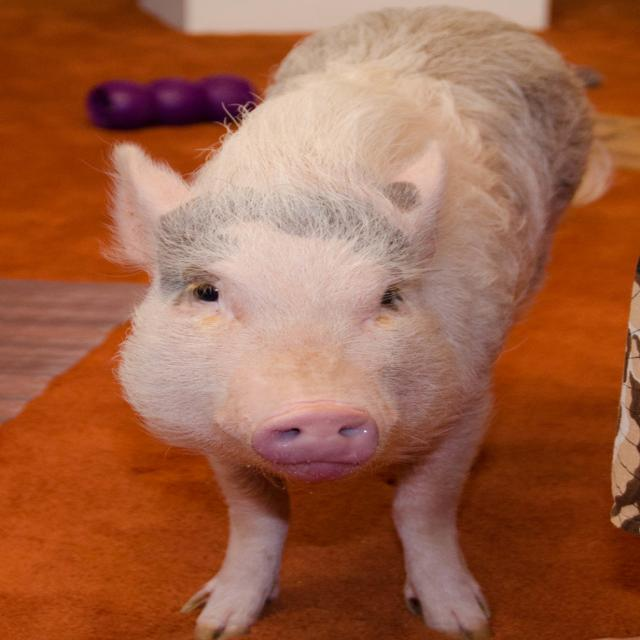Pig: (89, 3, 601, 639)
